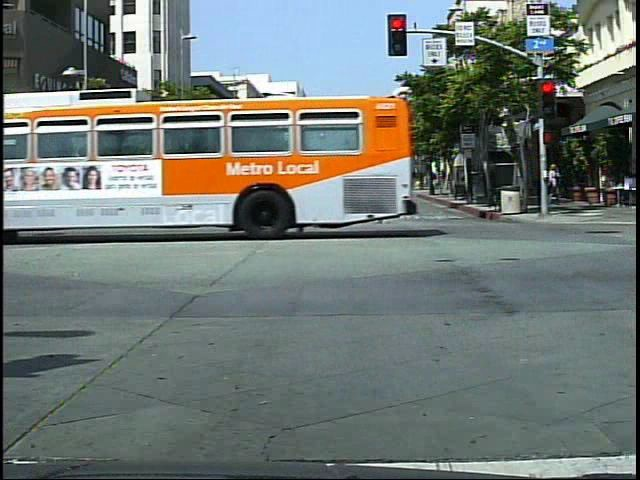person: (269, 165, 300, 229), (165, 168, 194, 234), (360, 166, 389, 230), (548, 160, 570, 208)
